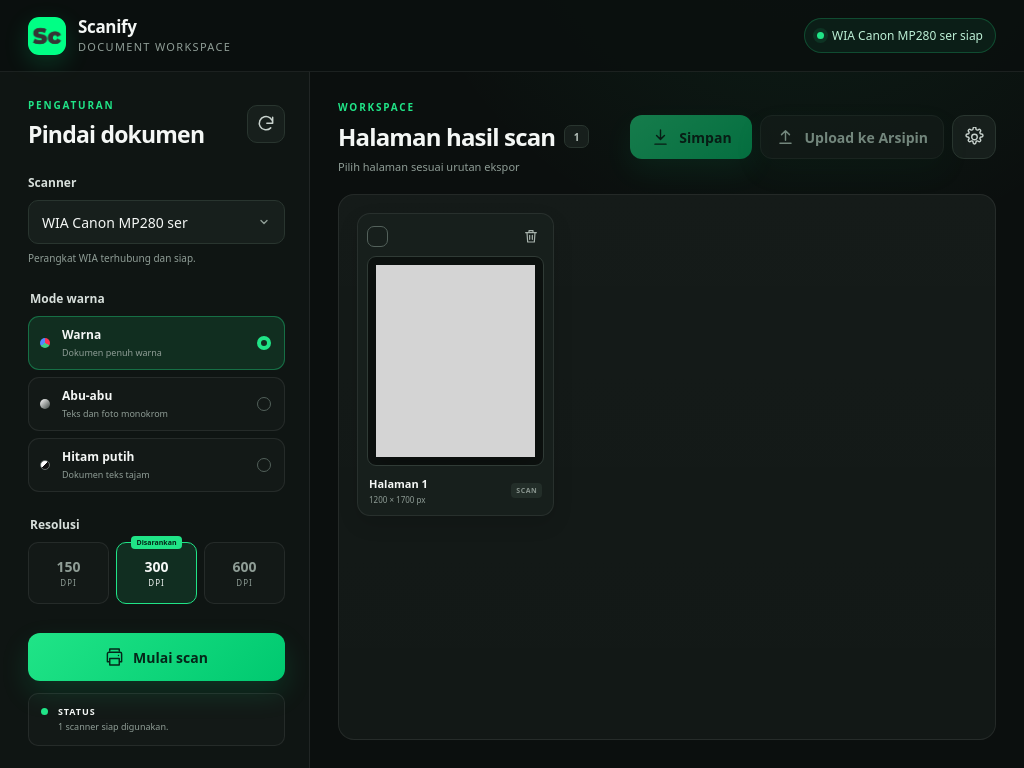
Test: Scanify workspace › memperbarui badge urutan ketika halaman dipilih
Click the button named "Pilih halaman 1". click: [378, 236]
box: [367, 226, 388, 246]
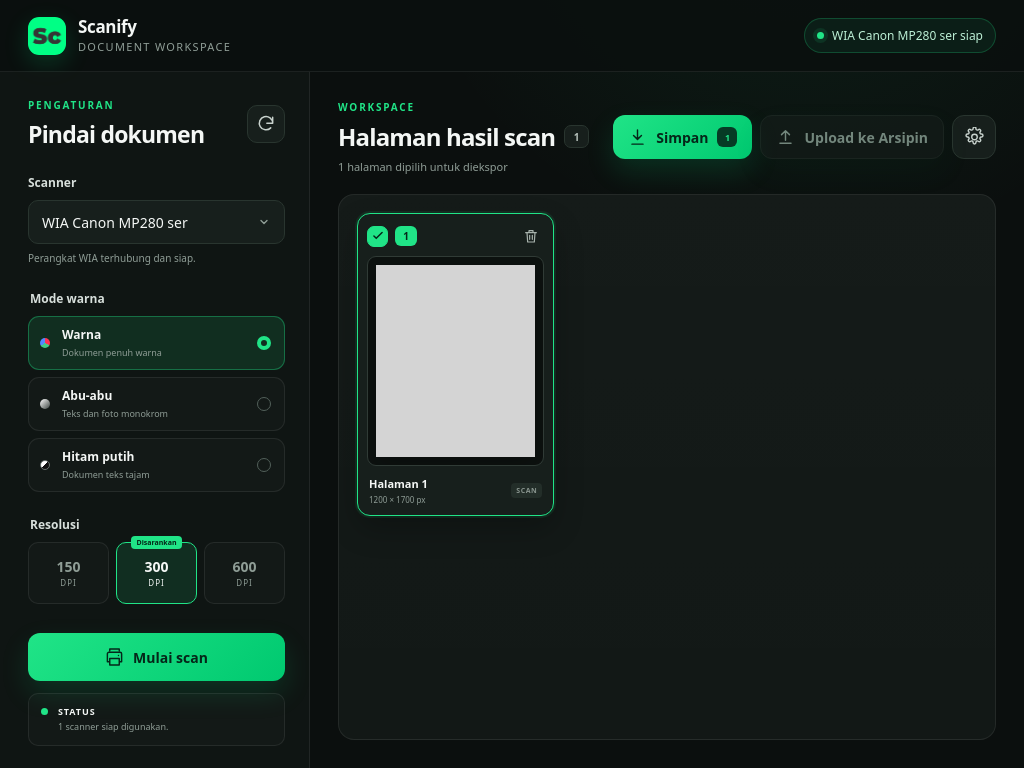
Expected: the text named "Urutan ekspor 1" reads "1", [403, 229, 409, 243]
Expected: the button "Simpan 1" is enabled, [613, 115, 752, 159]
